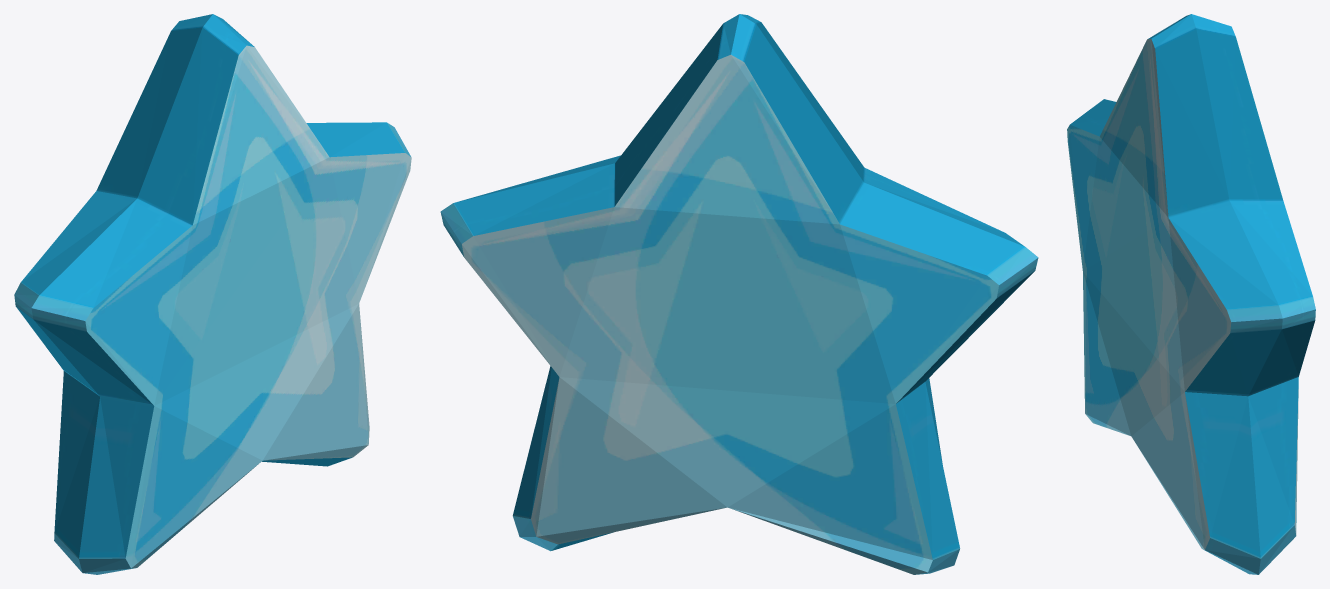
File: blue_star.fbx
3 views of the same model, side by side, from view 1: azimuth 30°, elevation 25°; view 2: azimuth 150°, elevation 25°; view 3: azimuth 270°, elevation 25° (orthographic). The views are drawn at different scales.
Parts seen in each view (by area): view 1: Box001; view 2: Box001; view 3: Box001.
Part boxes in pixels (<box>): Box001: <box>14,14,411,574</box>; Box001: <box>440,14,1038,574</box>; Box001: <box>1067,14,1315,574</box>.
Size of the model in its own units: 135 by 143 by 65.65.
